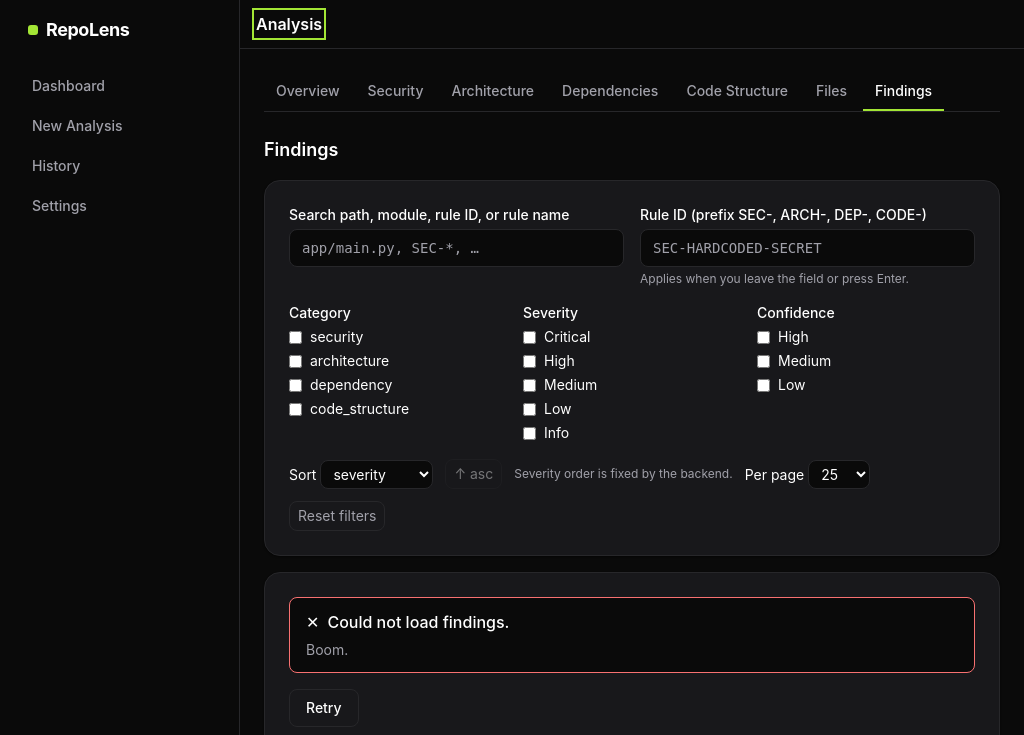
Test: Findings explorer › recovers from request failures with retry
The width and height of the screenshot is (1024, 735).
Click the button "Retry" at (324, 708), box [289, 689, 359, 727]
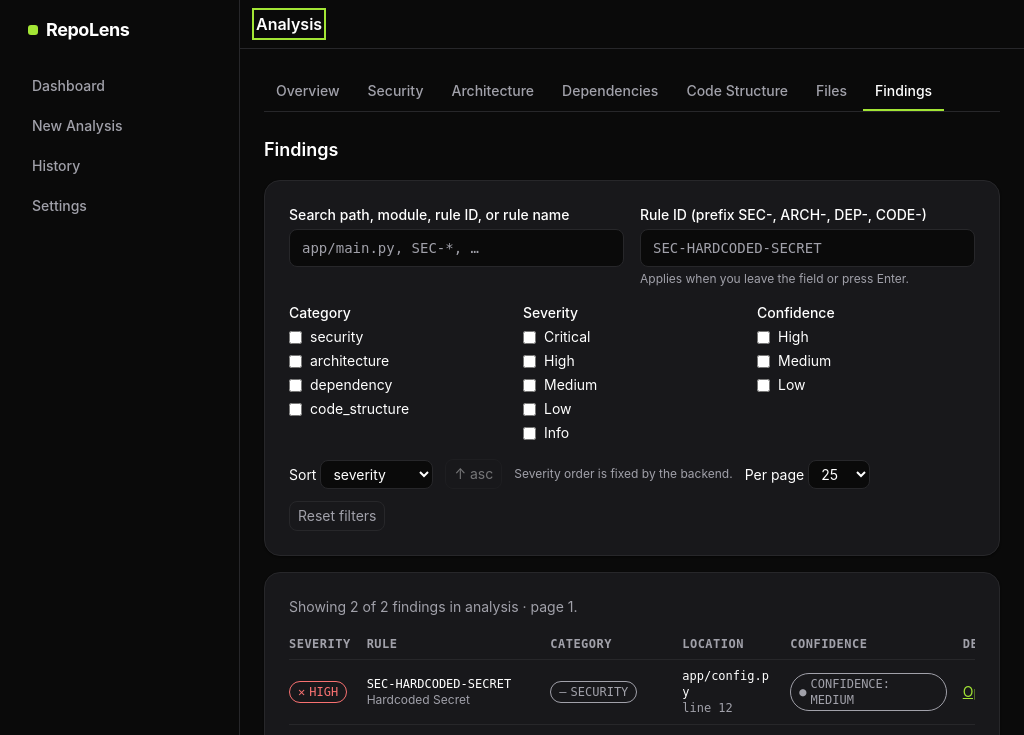
Check: the text "SEC-HARDCODED-SECRET" is shown, box [367, 676, 534, 692]
